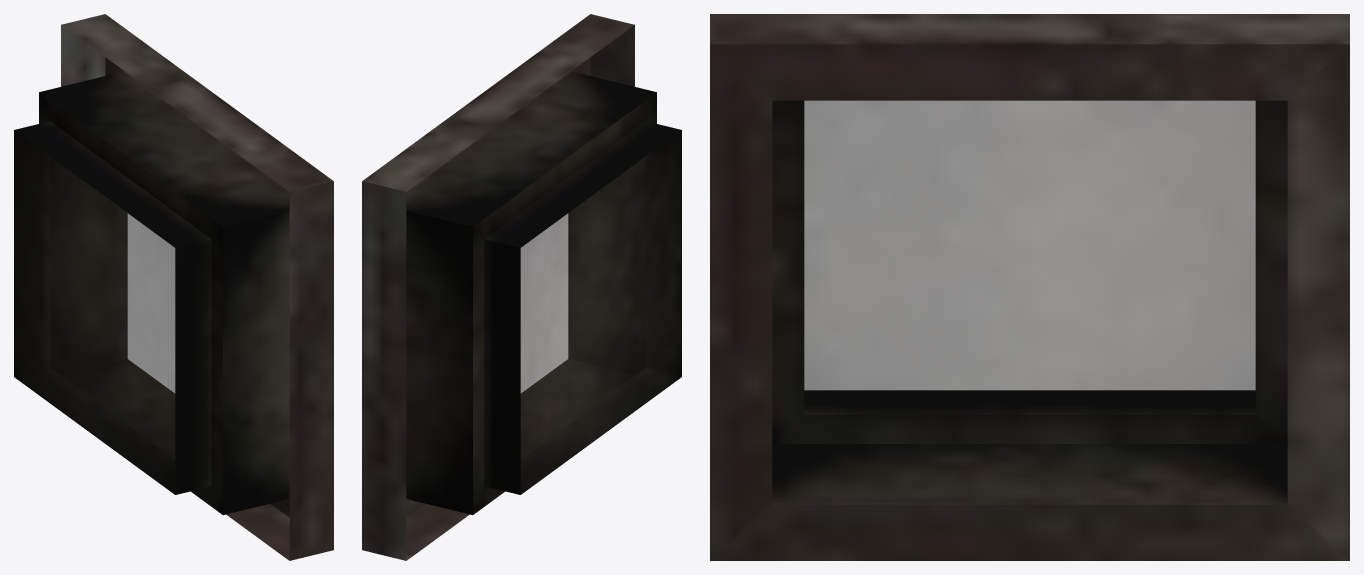
The model's file is SmallWindow_01.FBX.
3 renders of one model, left to right at view 1: azimuth 30°, elevation 25°; view 2: azimuth 150°, elevation 25°; view 3: azimuth 270°, elevation 25°, orthographic. The views are drawn at different scales.
Visible parts, largest first — view 1: SmallWindow_01; view 2: SmallWindow_01; view 3: SmallWindow_01.
Boxes of the visible parts, bbox=[...] form: SmallWindow_01: bbox=[14, 14, 333, 560]; SmallWindow_01: bbox=[362, 14, 681, 560]; SmallWindow_01: bbox=[710, 14, 1349, 560].
Size of the model in its own units: 42.28 by 119 by 134.
